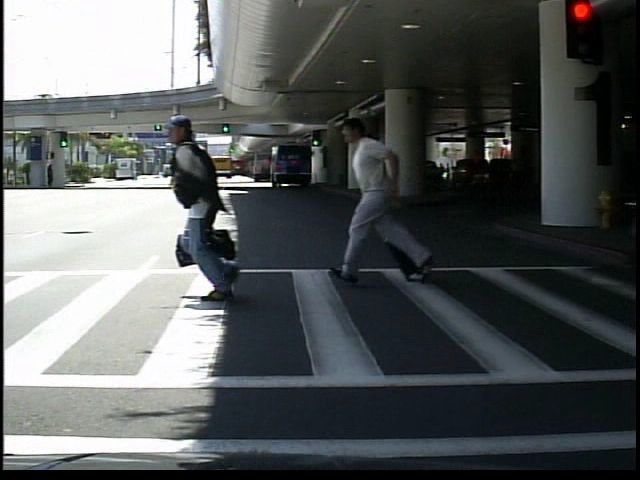person: (164, 115, 251, 305), (351, 113, 416, 287)
